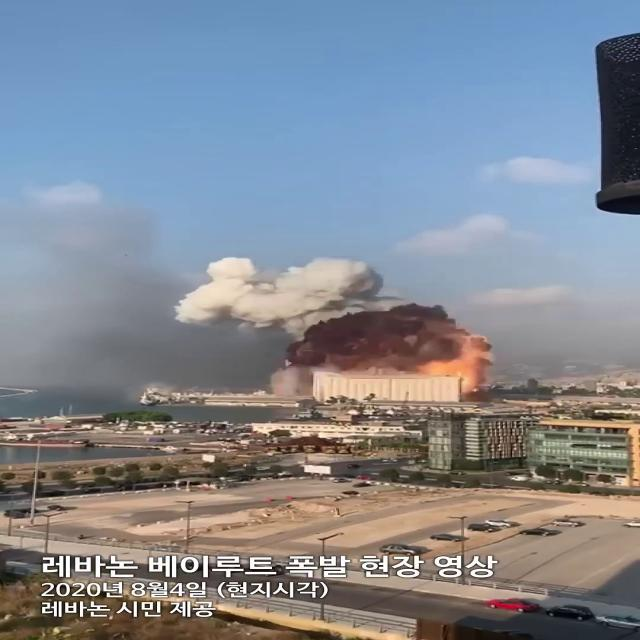explosion: (175, 242, 511, 412)
